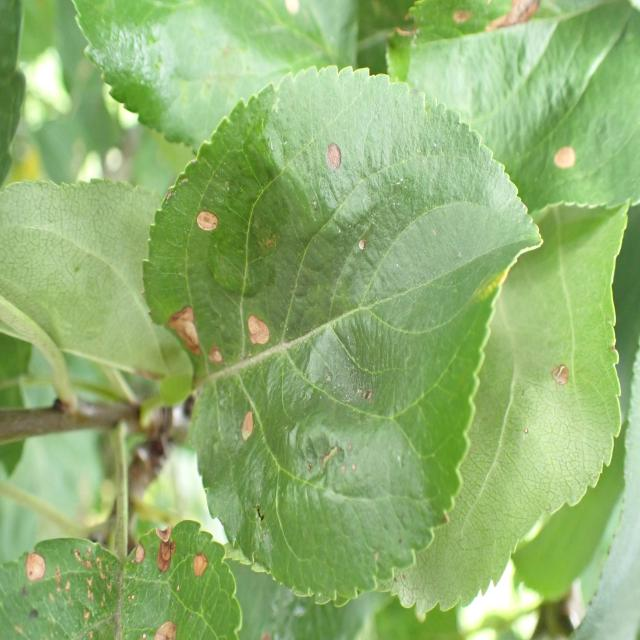Black Rot: (536, 132, 594, 199), (163, 292, 206, 369), (304, 128, 353, 184), (242, 294, 278, 369), (186, 178, 223, 250), (547, 351, 590, 402), (24, 524, 54, 595), (152, 511, 182, 580), (186, 548, 218, 597), (235, 410, 264, 453), (207, 340, 236, 375), (143, 608, 173, 640), (127, 533, 148, 575)
